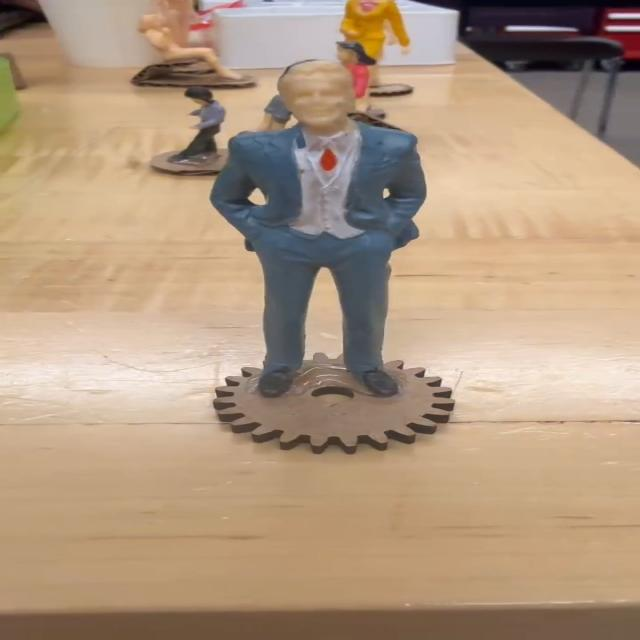Authorized: (227, 59, 427, 410)
